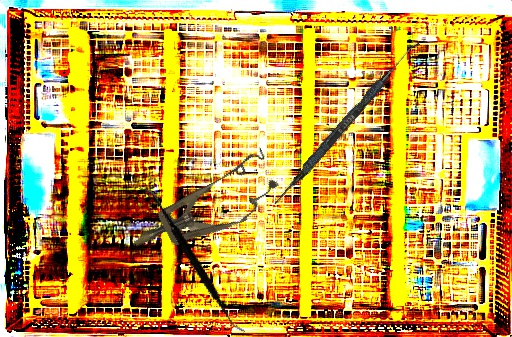Spatula Surgical: (102, 186, 282, 334), (271, 36, 421, 210)
Speculum: (122, 147, 287, 270)
